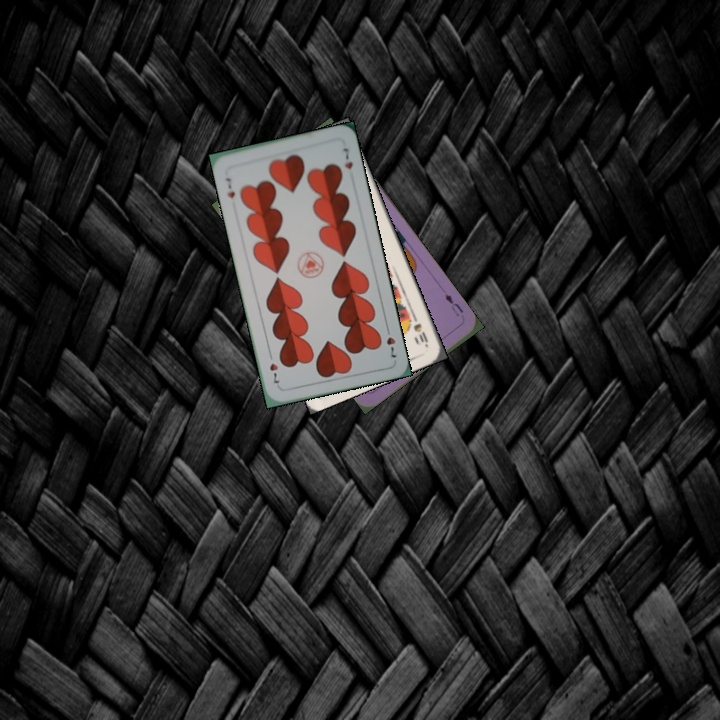EU: (441, 290, 466, 319)
H7: (382, 322, 399, 361), (222, 174, 238, 201)
S10: (408, 310, 431, 349)
